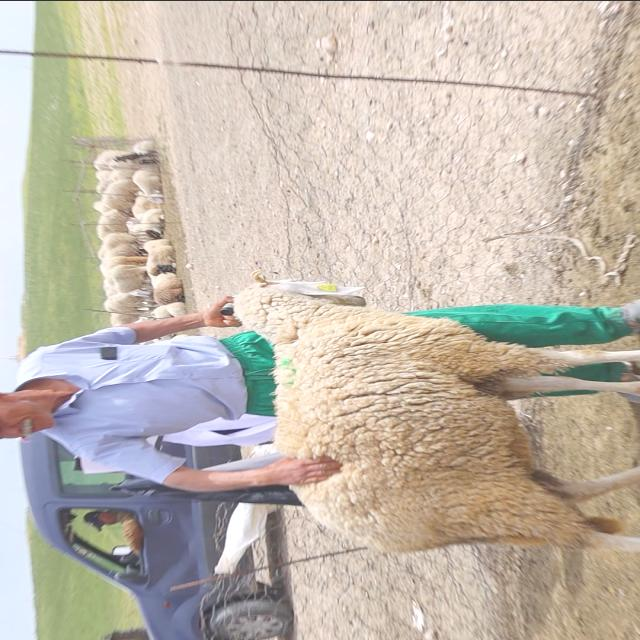Score_2: (234, 269, 639, 552)
